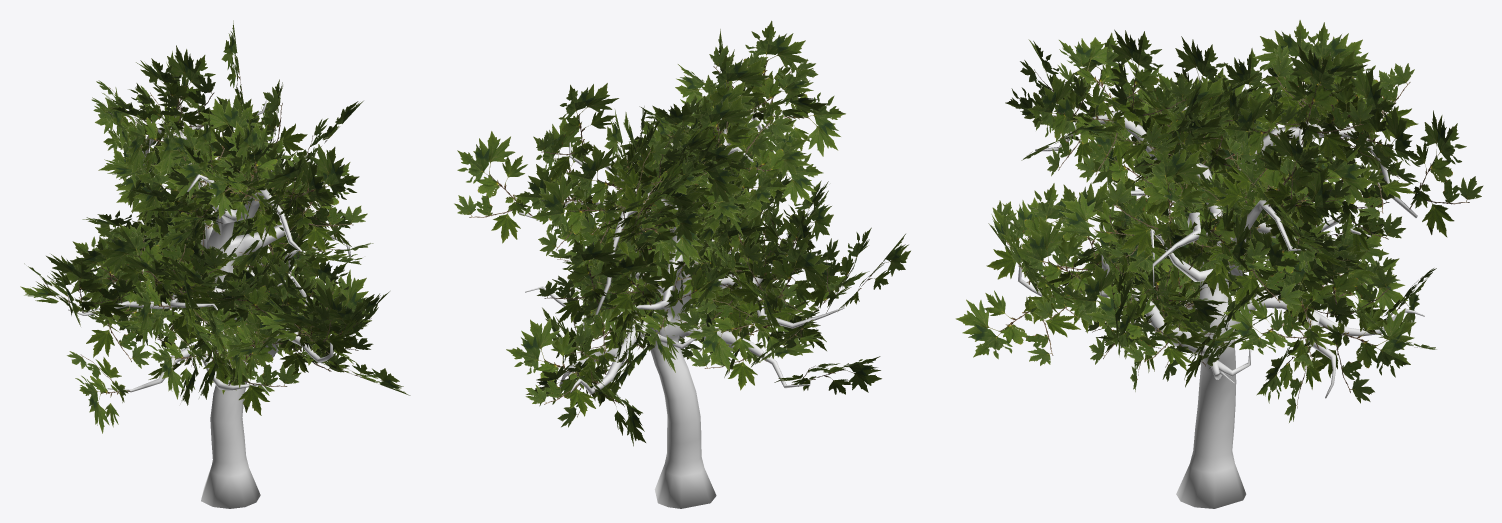
The model's file is Tree_2_MinderBlaadjes.fbx.
3 renders of one model, left to right at view 1: azimuth 30°, elevation 25°; view 2: azimuth 150°, elevation 25°; view 3: azimuth 270°, elevation 25°, orthographic. The views are drawn at different scales.
Parts seen in each view (by area): view 1: Stronk, Stronk|Blaadjes|Dupli|93, Stronk|Blaadjes|Dupli|139, Stronk|Blaadjes|Dupli|52, Stronk|Blaadjes|Dupli|19, Stronk|Blaadjes|Dupli|121, Stronk|Blaadjes|Dupli|64, Stronk|Blaadjes|Dupli|138, Stronk|Blaadjes|Dupli|86, Stronk|Blaadjes|Dupli|140, Stronk|Blaadjes|Dupli|98, Stronk|Blaadjes|Dupli|89 (+63 smaller); view 2: Stronk, Stronk|Blaadjes|Dupli|11, Stronk|Blaadjes|Dupli|14, Stronk|Blaadjes|Dupli|22, Stronk|Blaadjes|Dupli|135, Stronk|Blaadjes|Dupli|63, Stronk|Blaadjes|Dupli|129, Stronk|Blaadjes|Dupli|15, Stronk|Blaadjes|Dupli|41, Stronk|Blaadjes|Dupli|147, Stronk|Blaadjes|Dupli|37, Stronk|Blaadjes|Dupli|137 (+55 smaller); view 3: Stronk, Stronk|Blaadjes|Dupli|54, Stronk|Blaadjes|Dupli|63, Stronk|Blaadjes|Dupli|104, Stronk|Blaadjes|Dupli|106, Stronk|Blaadjes|Dupli|129, Stronk|Blaadjes|Dupli|146, Stronk|Blaadjes|Dupli|97, Stronk|Blaadjes|Dupli|143, Stronk|Blaadjes|Dupli|70, Stronk|Blaadjes|Dupli|89, Stronk|Blaadjes|Dupli|37 (+63 smaller).
Boxes of the visible parts, x1,y1,x2,y2 form: Stronk: (68,100,351,508); Stronk|Blaadjes|Dupli|93: (96,223,208,299); Stronk|Blaadjes|Dupli|139: (278,144,359,237); Stronk|Blaadjes|Dupli|52: (228,310,301,415); Stronk|Blaadjes|Dupli|19: (46,254,136,318); Stronk|Blaadjes|Dupli|121: (86,279,183,368); Stronk|Blaadjes|Dupli|64: (67,351,130,433); Stronk|Blaadjes|Dupli|138: (289,162,367,252); Stronk|Blaadjes|Dupli|86: (125,85,180,176); Stronk|Blaadjes|Dupli|140: (200,159,273,222); Stronk|Blaadjes|Dupli|98: (210,258,311,322); Stronk|Blaadjes|Dupli|89: (136,58,218,129); Stronk: (519,112,844,508); Stronk|Blaadjes|Dupli|11: (454,131,532,243); Stronk|Blaadjes|Dupli|14: (729,234,830,312); Stronk|Blaadjes|Dupli|22: (506,317,599,416); Stronk|Blaadjes|Dupli|135: (531,172,628,267); Stronk|Blaadjes|Dupli|63: (536,83,618,182); Stronk|Blaadjes|Dupli|129: (537,239,625,324); Stronk|Blaadjes|Dupli|15: (686,299,771,371); Stronk|Blaadjes|Dupli|41: (722,114,823,204); Stronk|Blaadjes|Dupli|147: (752,59,845,156); Stronk|Blaadjes|Dupli|37: (565,145,639,237); Stronk|Blaadjes|Dupli|137: (709,20,808,112); Stronk: (1018,106,1424,508); Stronk|Blaadjes|Dupli|54: (1105,141,1208,256); Stronk|Blaadjes|Dupli|63: (1286,44,1374,164); Stronk|Blaadjes|Dupli|104: (1310,305,1416,403); Stronk|Blaadjes|Dupli|106: (955,290,1080,365); Stronk|Blaadjes|Dupli|129: (1409,110,1483,237); Stronk|Blaadjes|Dupli|146: (1110,29,1195,137); Stronk|Blaadjes|Dupli|97: (1012,216,1097,333); Stronk|Blaadjes|Dupli|143: (1041,76,1140,182); Stronk|Blaadjes|Dupli|70: (1085,277,1192,370); Stronk|Blaadjes|Dupli|89: (1271,22,1370,132); Stronk|Blaadjes|Dupli|37: (1319,63,1395,162).
Bounding box in the file's own units: 515 × 555 × 560.
2 materials, 1 textured.
